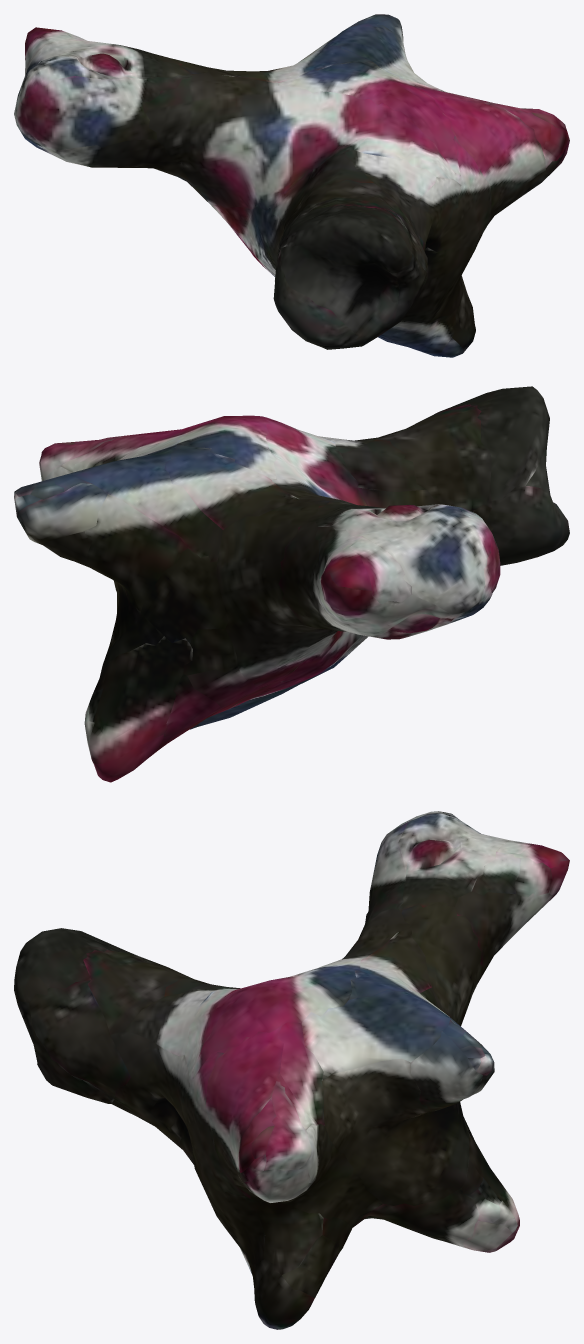
Rendered from hall.glb.
3 renders of one model, top to bottom at view 1: azimuth 30°, elevation 25°; view 2: azimuth 150°, elevation 25°; view 3: azimuth 270°, elevation 25°, orthographic. The views are drawn at different scales.
Bounding box in the file's own units: 0.523 × 0.3418 × 0.5026.
Materials: 1 (1 with a texture image).
